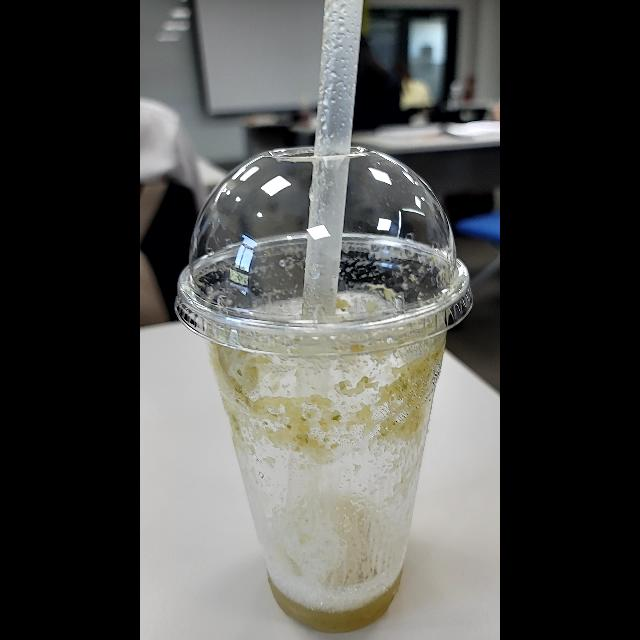plastic_cup: (171, 116, 473, 640)
plastic_cup_lid: (172, 140, 474, 358)
straw: (306, 0, 365, 323)
